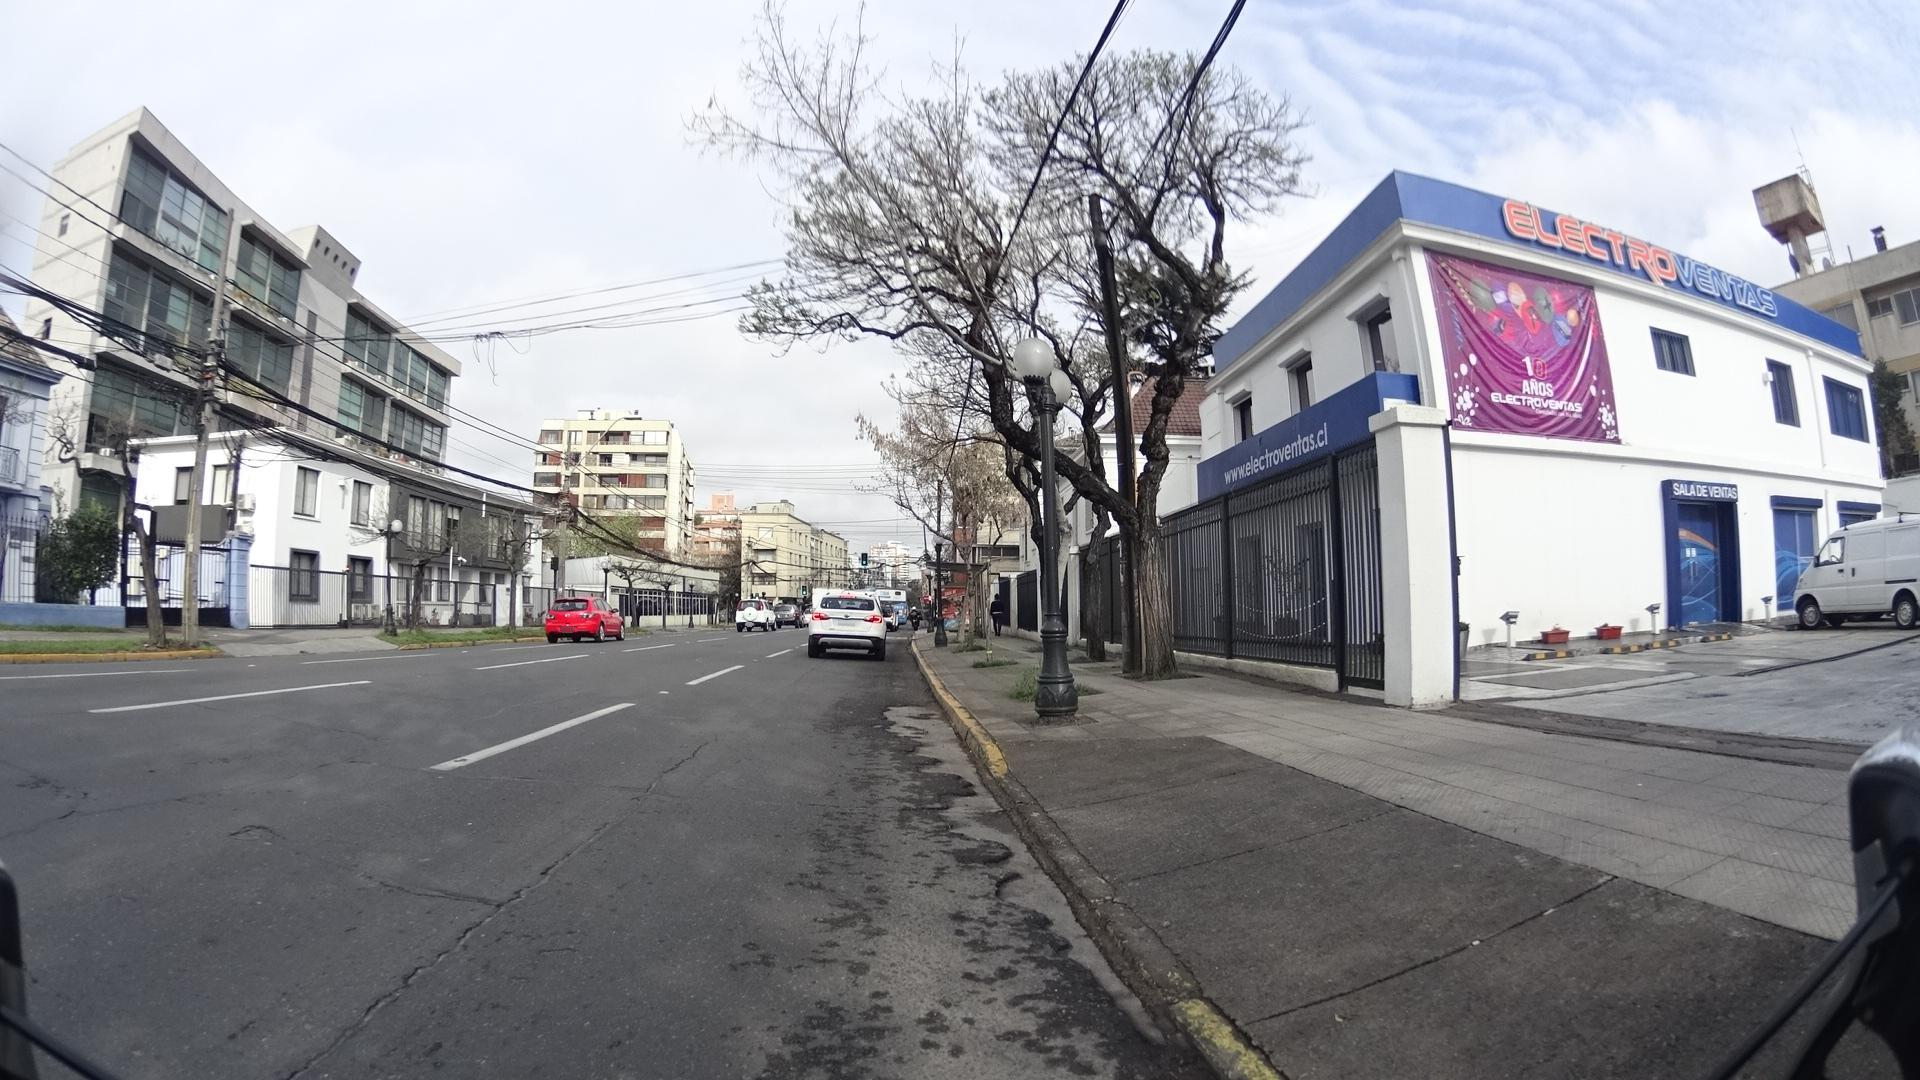vinyl banner: (1428, 240, 1650, 469)
